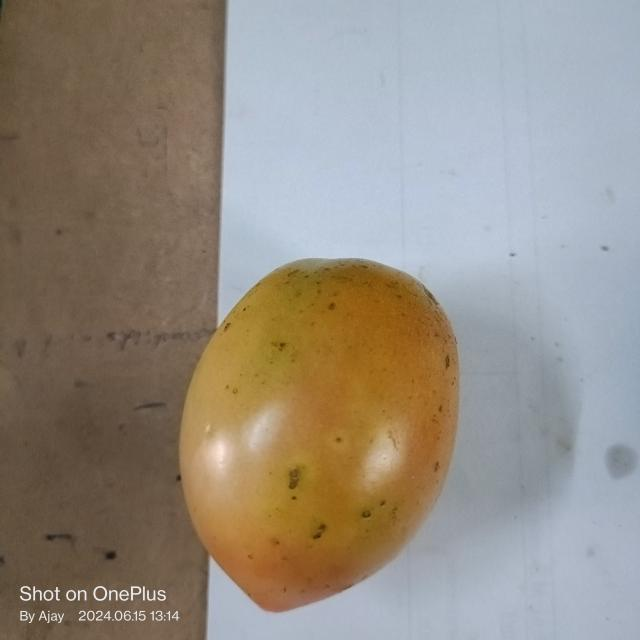Bacterial_Spot: (285, 465, 302, 492), (313, 522, 328, 540), (360, 509, 373, 520)
